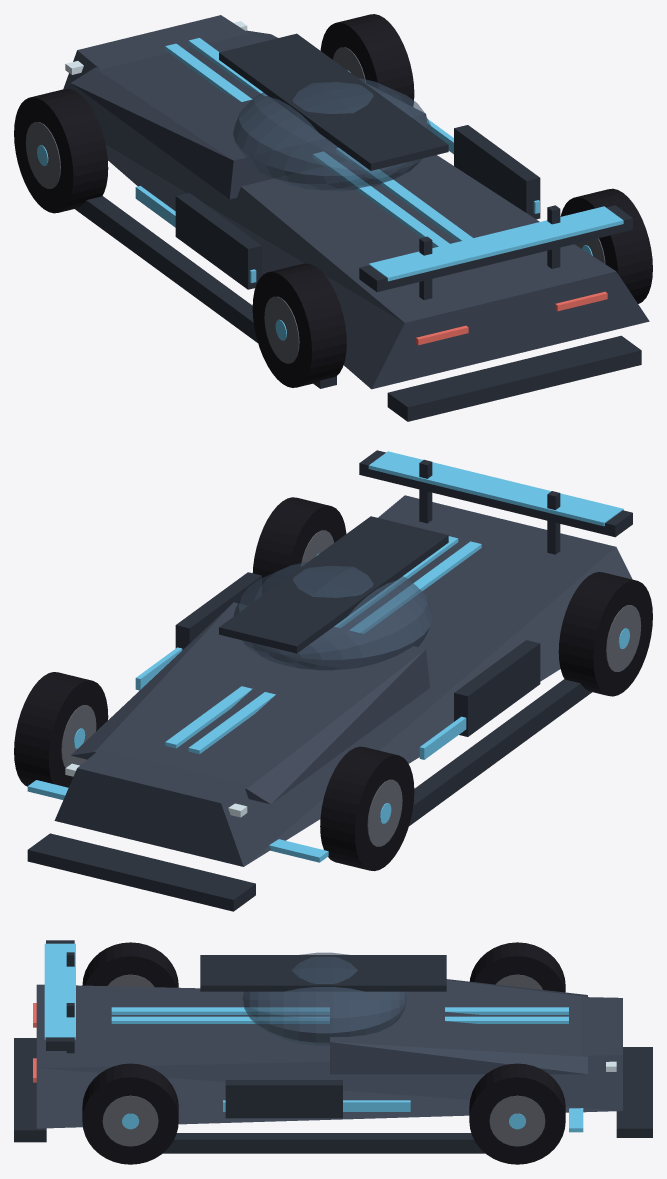
Rendered from nighthawk.glb.
3 views of the same model, one above another, from view 1: azimuth 30°, elevation 25°; view 2: azimuth 150°, elevation 25°; view 3: azimuth 270°, elevation 25° (orthographic). The views are drawn at different scales.
Parts seen in each view (by area): view 1: body_chassis, hood_slope, carbon_roof_spine, dark_cockpit_canopy, rear_diffuser, left_rear_tire, left_front_tire, left_side_skirt, rear_spoiler_accent, right_front_tire, left_side_intake, right_side_intake (+8 smaller); view 2: body_chassis, hood_slope, carbon_roof_spine, dark_cockpit_canopy, left_front_tire, left_rear_tire, front_splitter, right_front_tire, left_side_skirt, rear_spoiler_accent, right_rear_tire, left_side_intake (+11 smaller); view 3: body_chassis, hood_slope, carbon_roof_spine, dark_cockpit_canopy, right_side_skirt, right_front_tire, right_rear_tire, right_side_intake, left_front_tire, left_rear_tire, front_splitter, rear_spoiler_accent (+10 smaller).
Part boxes in pixels (x1,y1,x2,y2): body_chassis: (63,15,649,389); hood_slope: (71,30,427,199); carbon_roof_spine: (219,33,448,170); dark_cockpit_canopy: (233,78,432,191); rear_diffuser: (387,335,641,421); left_rear_tire: (252,263,346,387); left_front_tire: (14,88,108,213); left_side_skirt: (75,196,336,388); rear_spoiler_accent: (368,206,623,281); right_front_tire: (320,14,414,106); left_side_intake: (175,193,261,289); right_side_intake: (454,125,540,219); body_chassis: (54,495,632,866); hood_slope: (71,602,429,804); carbon_roof_spine: (219,516,448,653); dark_cockpit_canopy: (233,562,432,670); left_front_tire: (320,746,414,871); left_rear_tire: (558,572,652,696); front_splitter: (27,833,255,911); right_front_tire: (14,672,108,787); left_side_skirt: (409,679,592,825); rear_spoiler_accent: (368,451,623,526); right_rear_tire: (252,497,346,595); left_side_intake: (454,640,540,736); body_chassis: (36,984,622,1128); hood_slope: (330,979,587,1074); carbon_roof_spine: (200,955,446,991); dark_cockpit_canopy: (242,952,406,1045); right_side_skirt: (163,1133,484,1153); right_front_tire: (469,1063,565,1164); right_rear_tire: (82,1063,178,1164); right_side_intake: (225,1080,342,1118); left_front_tire: (469,942,565,992); left_rear_tire: (82,942,178,987); front_splitter: (616,1047,652,1137); rear_spoiler_accent: (44,943,75,1039).
Bounding box in the file's own units: 2.47 × 1.1 × 4.9.
